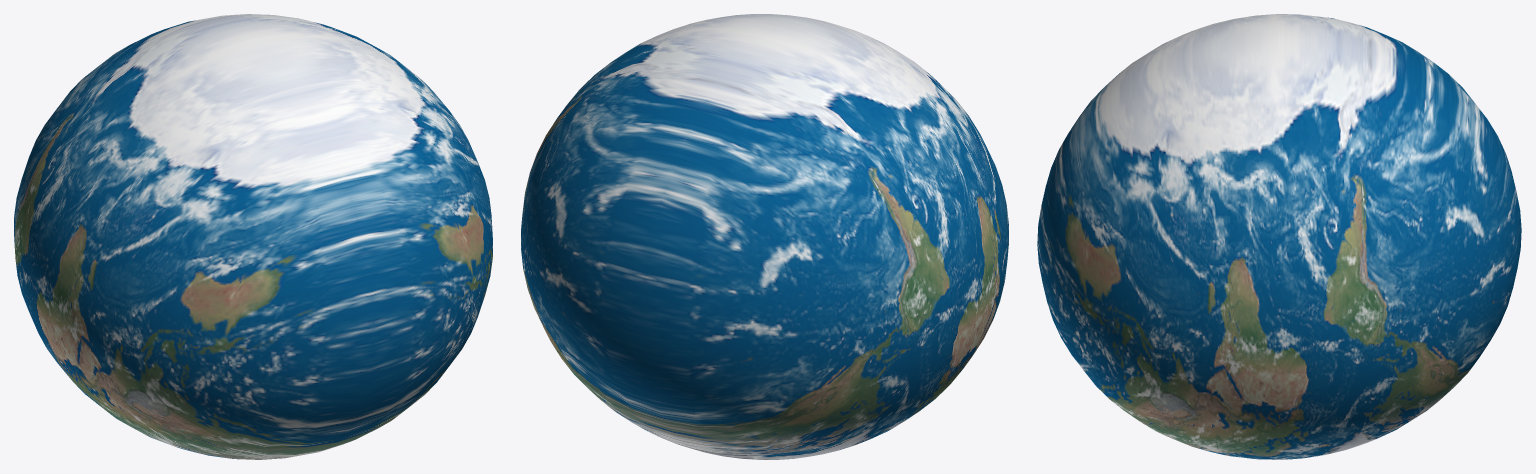
Rendered from planet.obj.
The picture shows the model from 3 angles, left to right: view 1: azimuth 30°, elevation 25°; view 2: azimuth 150°, elevation 25°; view 3: azimuth 270°, elevation 25°; orthographic projection.
Visible parts, largest first — view 1: Saturn_Planet_Sphere; view 2: Saturn_Planet_Sphere; view 3: Saturn_Planet_Sphere.
Boxes of the visible parts, x1,y1,x2,y2 form: Saturn_Planet_Sphere: [14, 14, 492, 459]; Saturn_Planet_Sphere: [521, 14, 1008, 459]; Saturn_Planet_Sphere: [1037, 14, 1521, 459].
Bounding box in the file's own units: 2 × 1.8 × 2.
